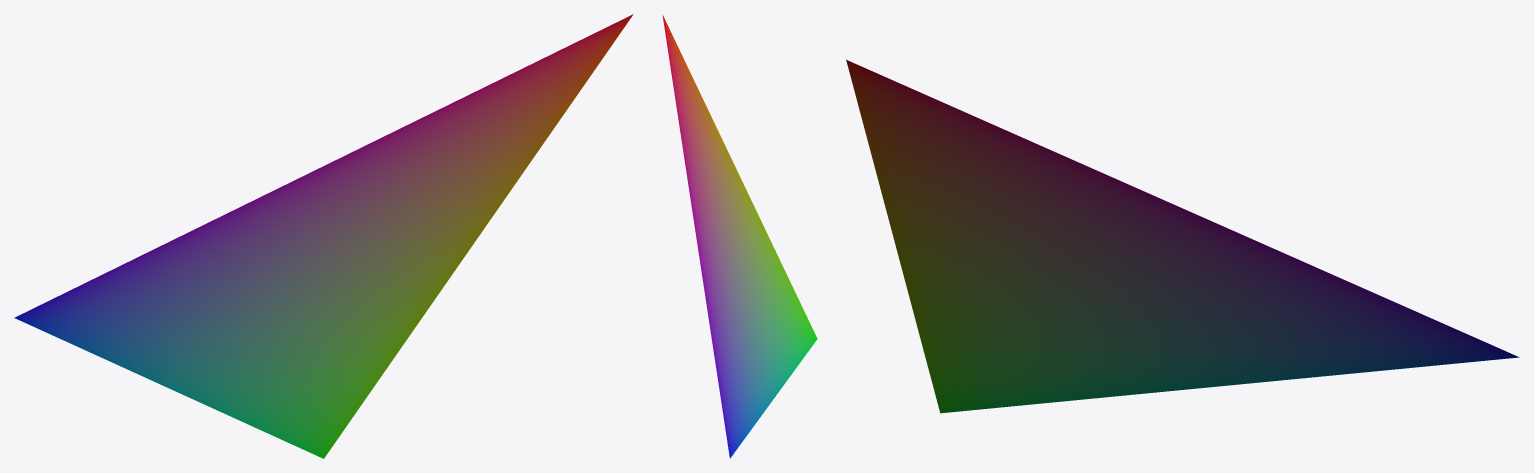
The model's file is face_cleaning_conquest_102.obj.
3 renders of one model, left to right at view 1: azimuth 30°, elevation 25°; view 2: azimuth 150°, elevation 25°; view 3: azimuth 270°, elevation 25°, orthographic. The views are drawn at different scales.
Size of the model in its own units: 0.4677 by 0.5 by 0.5781.
